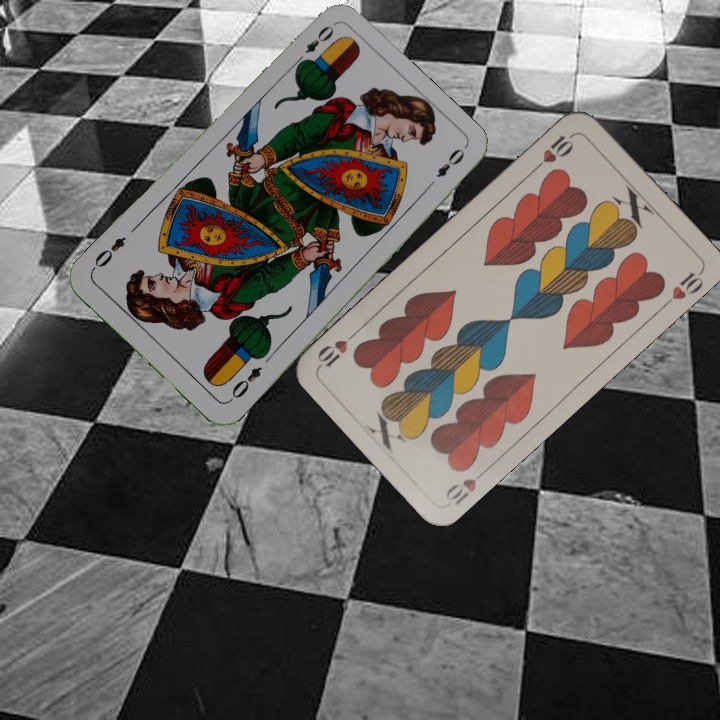EO: (291, 21, 337, 69), (225, 362, 265, 405)
H10: (441, 464, 491, 508), (530, 129, 578, 173)
